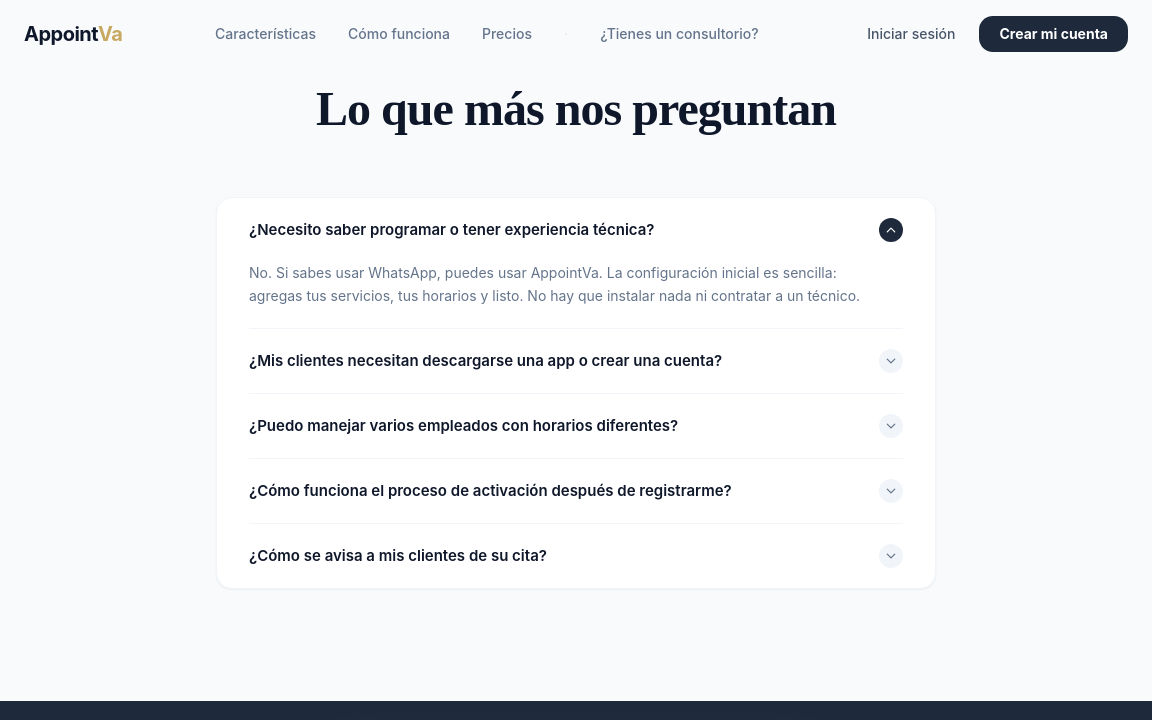
Test case: LandingPage — estados accesibles y precios (AP-20) › las preguntas frecuentes anuncian si están abiertas
(page scrolled)
Click the button "necesitan descargarse una app" at (576, 361), box x1=249 y1=329 x2=903 y2=393
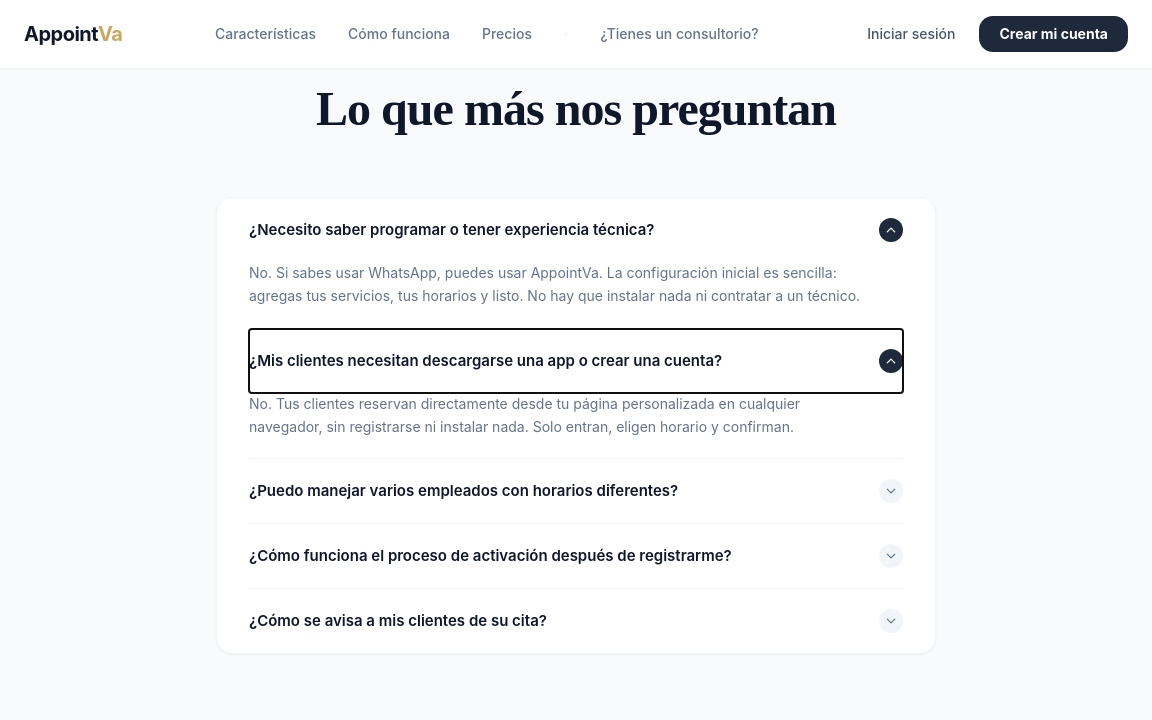
expect the button "necesitan descargarse una app" is expanded: met, box x1=249 y1=329 x2=903 y2=393
